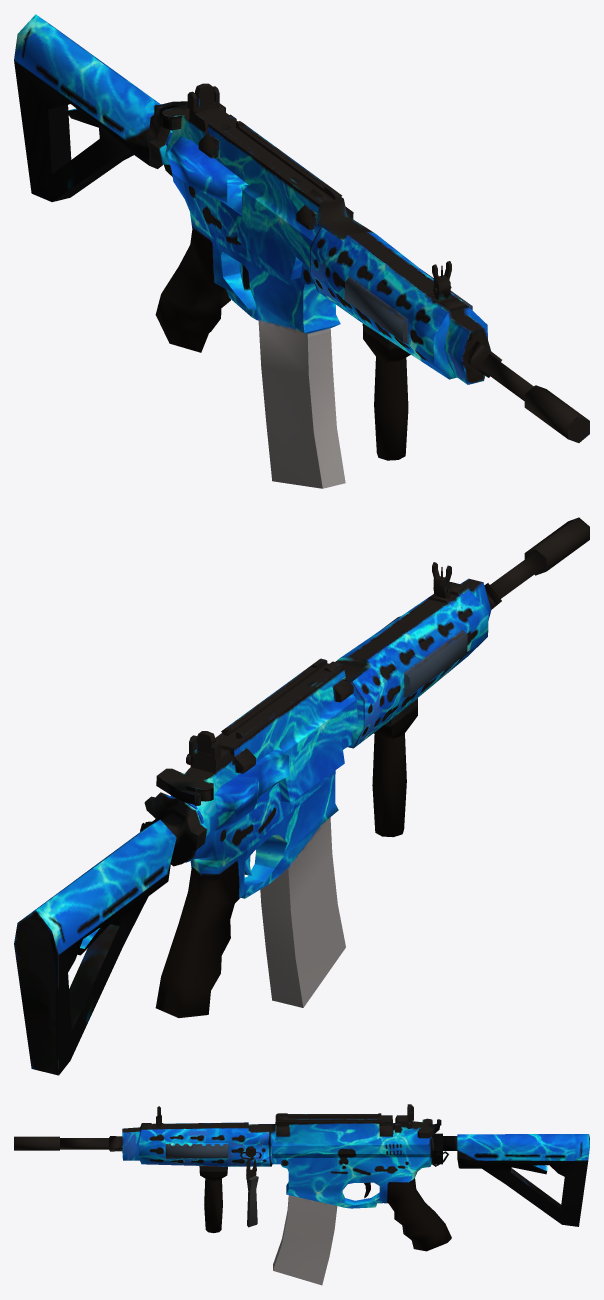
File: Assault_Rifle_bq_qs_01_WaterSplashing_Skin_Body_Main_(000364).glb
3 views of the same model, one above another, from view 1: azimuth 30°, elevation 25°; view 2: azimuth 150°, elevation 25°; view 3: azimuth 270°, elevation 25° (orthographic). The views are drawn at different scales.
Parts seen in each view (by area): view 1: bq_qs_01; view 2: bq_qs_01; view 3: bq_qs_01.
Part boxes in pixels (x1,y1,x2,y2): bq_qs_01: (14,14,589,488); bq_qs_01: (14,517,589,1075); bq_qs_01: (14,1104,589,1285).
Size of the model in its own units: 0.0817 by 0.3265 by 0.9691.
1 material, 1 textured.
